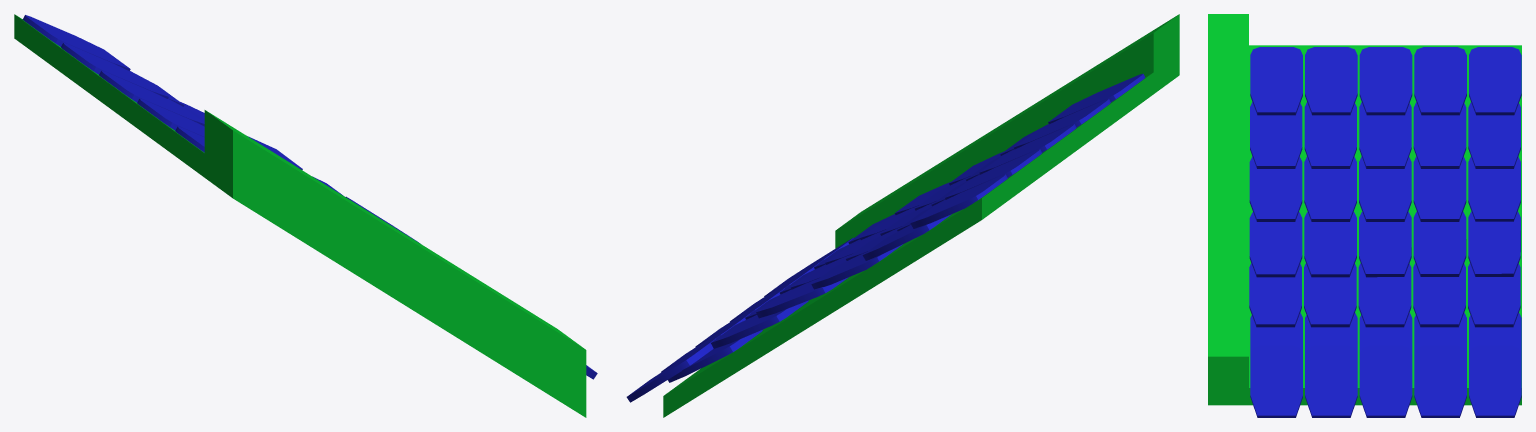
File: Unity HD Render Pipeline (Metallic Standard).fbx
3 views of the same model, side by side, from view 1: azimuth 30°, elevation 25°; view 2: azimuth 150°, elevation 25°; view 3: azimuth 270°, elevation 25° (orthographic). The views are drawn at different scales.
Visible parts, largest first — view 1: RoofFrontRepetitionSym (×2); view 2: RoofFrontRepetitionSym (×2); view 3: RoofFrontRepetitionSym (×2).
Part boxes in pixels (x1,y1,x2,y2): RoofFrontRepetitionSym (×2): [14, 14, 597, 417]; RoofFrontRepetitionSym (×2): [626, 14, 1179, 417]; RoofFrontRepetitionSym (×2): [1208, 14, 1521, 417].
Bounding box in the file's own units: 2.42 × 2.17 × 2.3.
